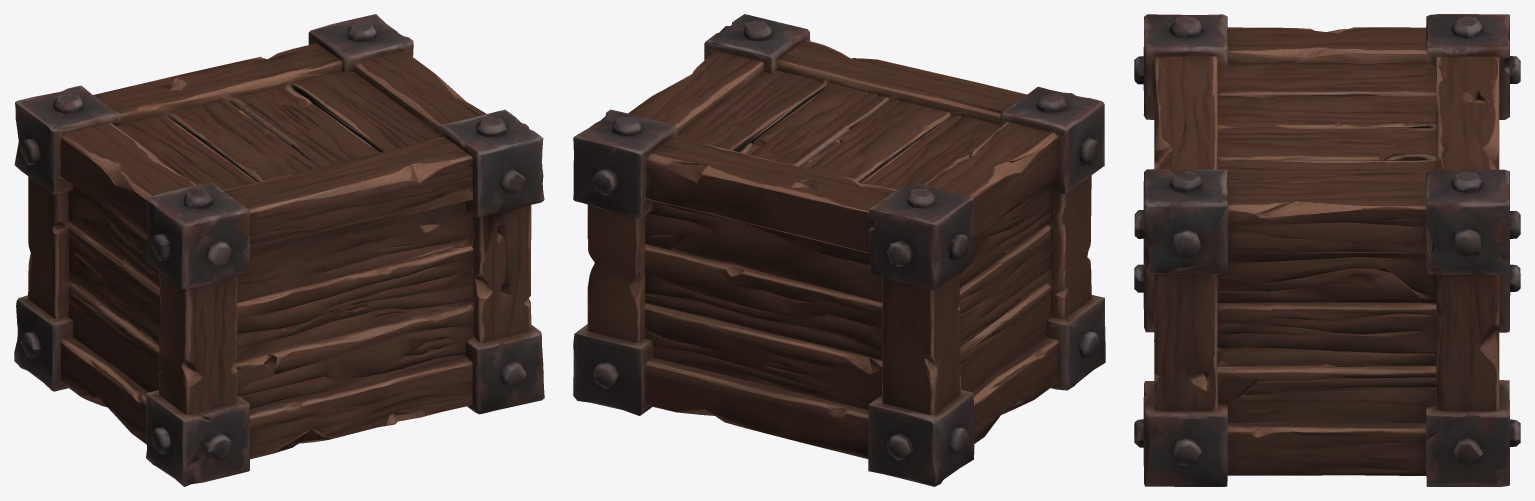
File: crate_wood_malyy.glb
3 views of the same model, side by side, from view 1: azimuth 30°, elevation 25°; view 2: azimuth 150°, elevation 25°; view 3: azimuth 270°, elevation 25° (orthographic). The views are drawn at different scales.
Visible parts, largest first — view 1: body, lid; view 2: body, lid; view 3: lid, body.
Part boxes in pixels (left/top/right/bottom): body: left=14, top=152, right=544, bottom=486; lid: left=15, top=14, right=543, bottom=274; body: left=573, top=152, right=1105, bottom=486; lid: left=573, top=14, right=1104, bottom=274; lid: left=1134, top=14, right=1520, bottom=258; body: left=1134, top=87, right=1520, bottom=486.
Size of the model in its own units: 0.7032 by 0.4997 by 0.5762.
Materials: 8 (3 with a texture image).
